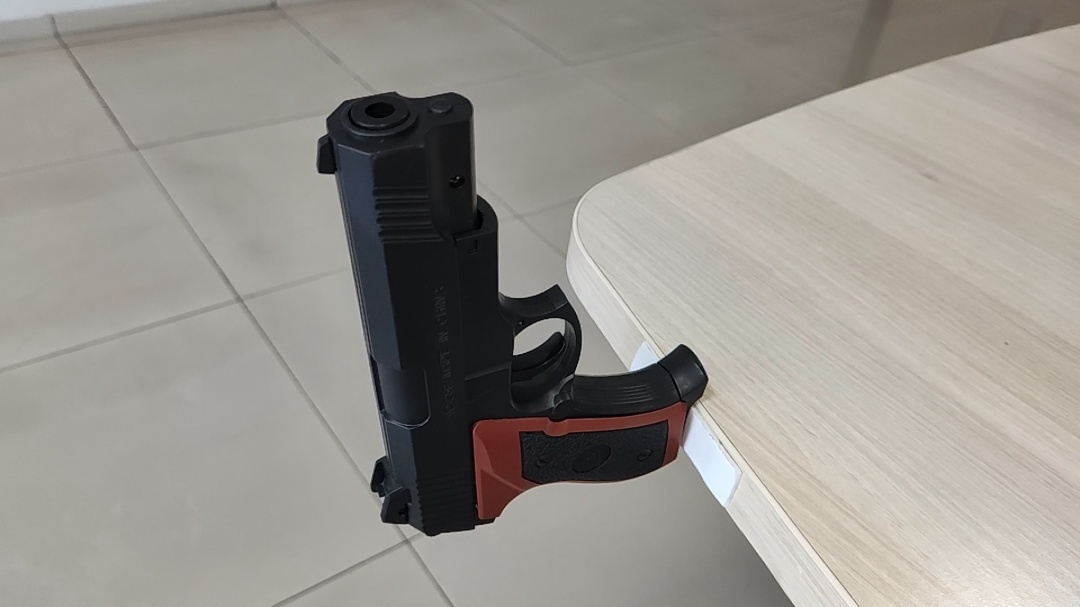gun: (310, 90, 708, 537)
